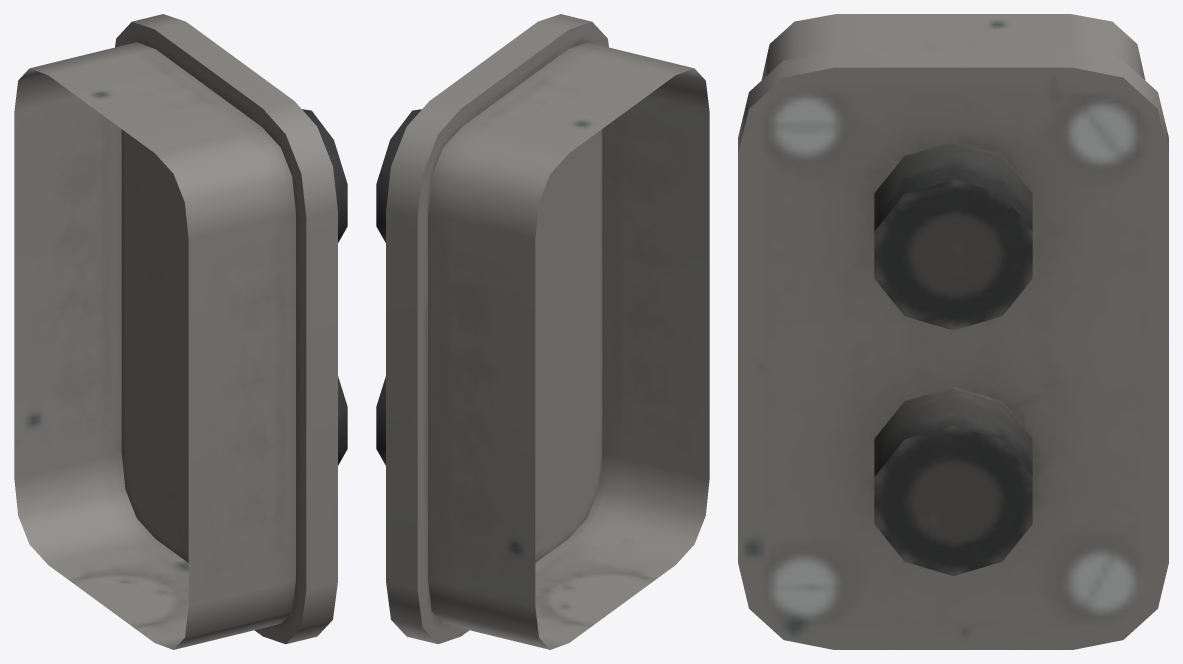
File: SM_WallSwitch_01.FBX
3 renders of one model, left to right at view 1: azimuth 30°, elevation 25°; view 2: azimuth 150°, elevation 25°; view 3: azimuth 270°, elevation 25°, orthographic. The views are drawn at different scales.
Parts seen in each view (by area): view 1: SM_WallSwitch_01_LOD0; view 2: SM_WallSwitch_01_LOD0; view 3: SM_WallSwitch_01_LOD0.
Boxes of the visible parts, x1,y1,x2,y2 form: SM_WallSwitch_01_LOD0: [14, 14, 347, 649]; SM_WallSwitch_01_LOD0: [376, 14, 709, 649]; SM_WallSwitch_01_LOD0: [738, 14, 1168, 649].
Size of the model in its own units: 7.61 by 12.24 by 18.26.
